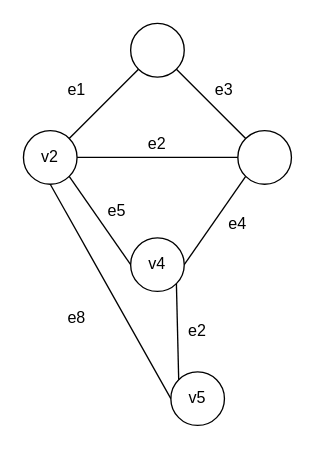
The diagram is 315 pixels wide and 449 high, and some of its shapes have lost their labels. Here are the shapes that lost their labels. From the top down, the box of each, then its label:
(129, 22, 184, 77): v1
(237, 129, 291, 184): v3
